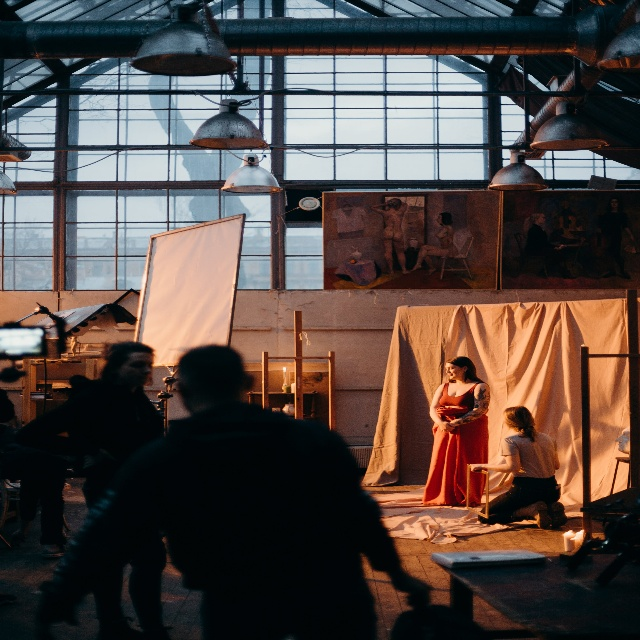Sin_guantes: (10, 528, 26, 547), (439, 421, 454, 433), (469, 462, 482, 474)
